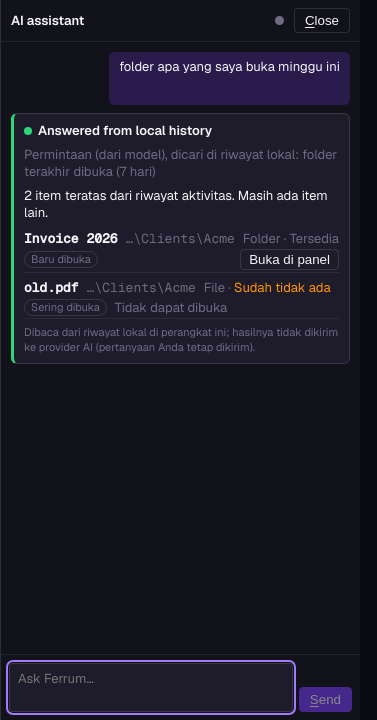
Test: ActivityAnswerCard in ChatPanel › lists items with name, parent hint, kind, availability and reasons; Open in panel uses the pane API only
Check: the message "Answered from local history" is shown, box x1=24 y1=122 x2=212 y2=139
Check: the text with test id "answer-query" shows "folder terakhir dibuka (7 hari)", box x1=24 y1=146 x2=337 y2=180
Click the button with aria-label "Buka Invoice 2026 di panel aktif": [290, 260] box x1=240 y1=249 x2=339 y2=270
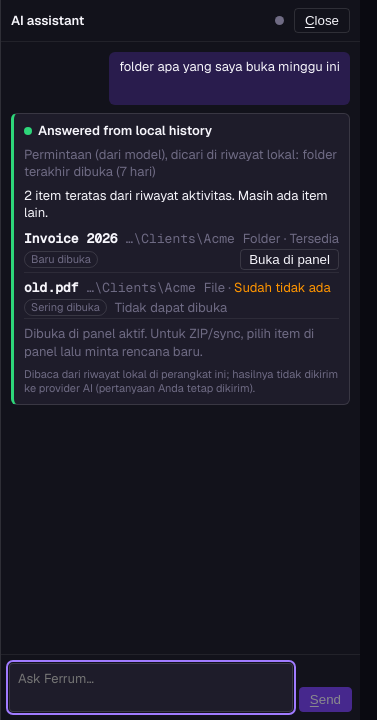
Check: the text with test id "answer-privacy" shows "tidak dikirim ke provider", box x1=24 y1=367 x2=338 y2=395
Check: the message with test id "open-note" shows "Dibuka di panel aktif", box x1=24 y1=326 x2=314 y2=360
